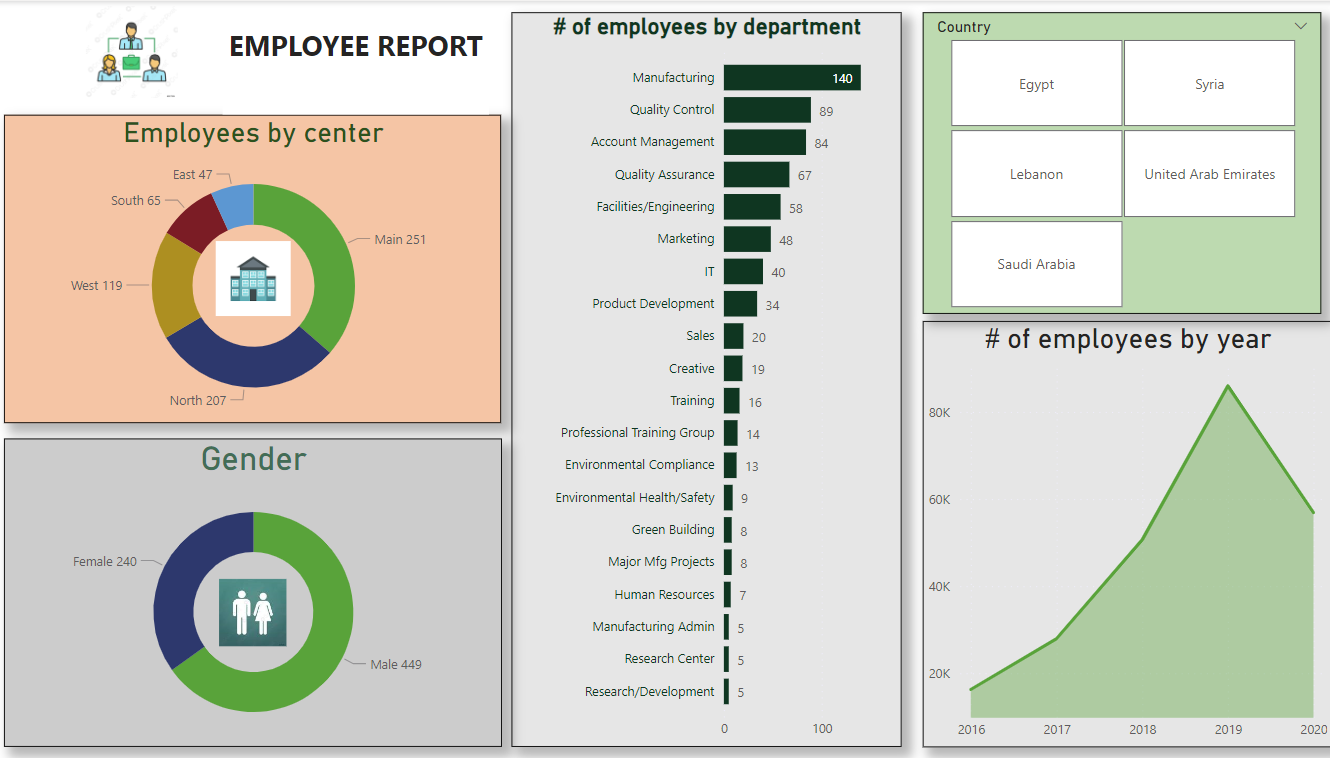

This screenshot's page, from the dashboard's own definition file:
{"tool":"powerbi","page":{"name":"Page 1","canvas":[1280,720],"ordinal":0},"visuals":[{"type":"clusteredBarChart","title":"# of employees by department","fields":{"Category":["EmpTable.Department"],"Y":["CountNonNull(EmpTable.No)"]},"box":[496.1,10.7,370.3,697.9],"z":0},{"type":"donutChart","title":" Employees by center","fields":{"Category":["EmpTable.Center"],"Y":["CountNonNull(EmpTable.No)"]},"box":[14.1,107.8,472.1,292.9],"z":1000},{"type":"donutChart","title":"Gender","fields":{"Category":["EmpTable.Gender"],"Y":["CountNonNull(EmpTable.Gender)"]},"box":[14.2,415.4,472.4,293.2],"z":2000},{"type":"areaChart","title":"# of employees by year","fields":{"Category":["EmpTable.Start Date.Variation.Date Hierarchy.Year","EmpTable.Start Date.Variation.Date Hierarchy.Quarter","EmpTable.Start Date.Variation.Date Hierarchy.Month","EmpTable.Start Date.Variation.Date Hierarchy.Day"],"Y":["Sum(EmpTable.No)"]},"box":[886.7,303.9,388.1,404.8],"z":3000},{"type":"slicer","fields":{"Values":["EmpTable.Country"]},"box":[886.7,10.7,378.6,286.1],"z":4000},{"type":"textbox","box":[222,19,252.8,89],"z":5000},{"type":"image","box":[213.7,441.5,73.6,278.9],"z":6000},{"type":"image","box":[0,0,270.6,97.3],"z":7000},{"type":"image","box":[100.7,222.6,299.9,80.8],"z":8000}]}

Visuals, with their boxes in screenshot pixels (x1, y1, x2, y2), scaled from the page's 1280x720 canvas onto the 1330x758 screenshot:
"# of employees by department" clusteredBarChart: (left=515, top=11, right=900, bottom=746)
" Employees by center" donutChart: (left=15, top=113, right=505, bottom=422)
"Gender" donutChart: (left=15, top=437, right=506, bottom=746)
"# of employees by year" areaChart: (left=921, top=320, right=1325, bottom=746)
slicer - EmpTable.Country: (left=921, top=11, right=1315, bottom=312)
textbox: (left=231, top=20, right=493, bottom=114)
image: (left=222, top=465, right=299, bottom=757)
image: (left=0, top=0, right=281, bottom=102)
image: (left=105, top=234, right=416, bottom=319)
